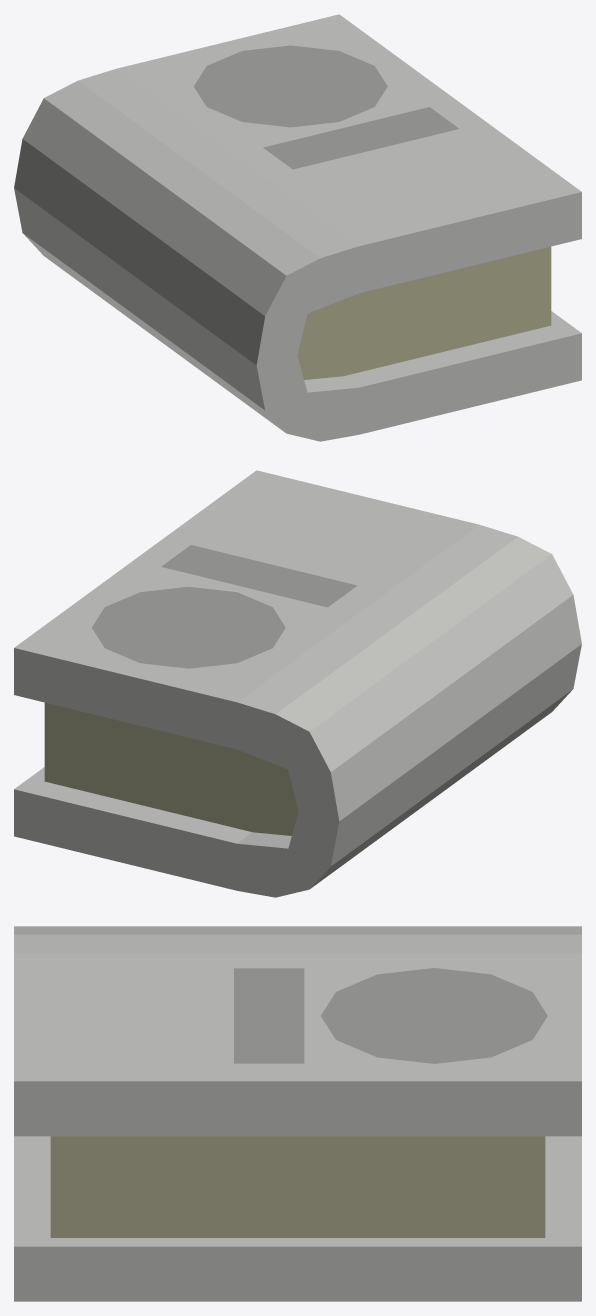
File: Book_4_White.fbx
The picture shows the model from 3 angles, top to bottom: view 1: azimuth 30°, elevation 25°; view 2: azimuth 150°, elevation 25°; view 3: azimuth 270°, elevation 25°; orthographic projection. The views are drawn at different scales.
Parts seen in each view (by area): view 1: Book_4_White_Part_1, Book_4_White_Part_2, Book_4_White_Part_3; view 2: Book_4_White_Part_1, Book_4_White_Part_2, Book_4_White_Part_3; view 3: Book_4_White_Part_1, Book_4_White_Part_2, Book_4_White_Part_3.
Boxes of the visible parts, <box> form: Book_4_White_Part_1: <box>14,14,581,441</box>; Book_4_White_Part_2: <box>297,246,551,379</box>; Book_4_White_Part_3: <box>194,45,459,169</box>; Book_4_White_Part_1: <box>14,470,581,897</box>; Book_4_White_Part_2: <box>44,702,298,835</box>; Book_4_White_Part_3: <box>92,545,357,668</box>; Book_4_White_Part_1: <box>14,926,581,1301</box>; Book_4_White_Part_2: <box>50,1136,545,1237</box>; Book_4_White_Part_3: <box>234,968,547,1063</box>.
Size of the model in its own units: 27.09 by 15.1 by 35.
